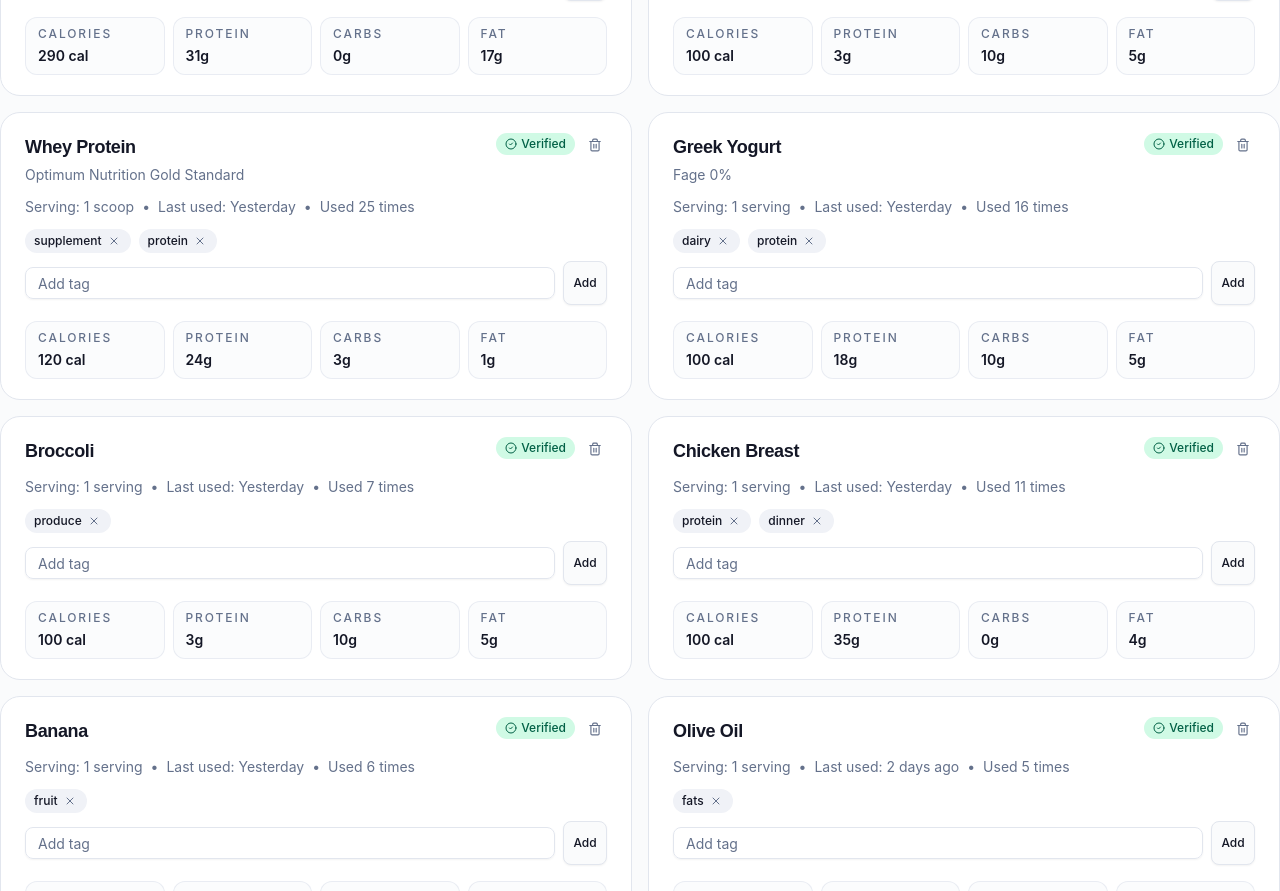
Scenario: FoodList › removes foods optimistically and keeps the total count in sync
(page scrolled)
Click the button named "Delete Broccoli" at point(595, 449), box [583, 437, 607, 461]
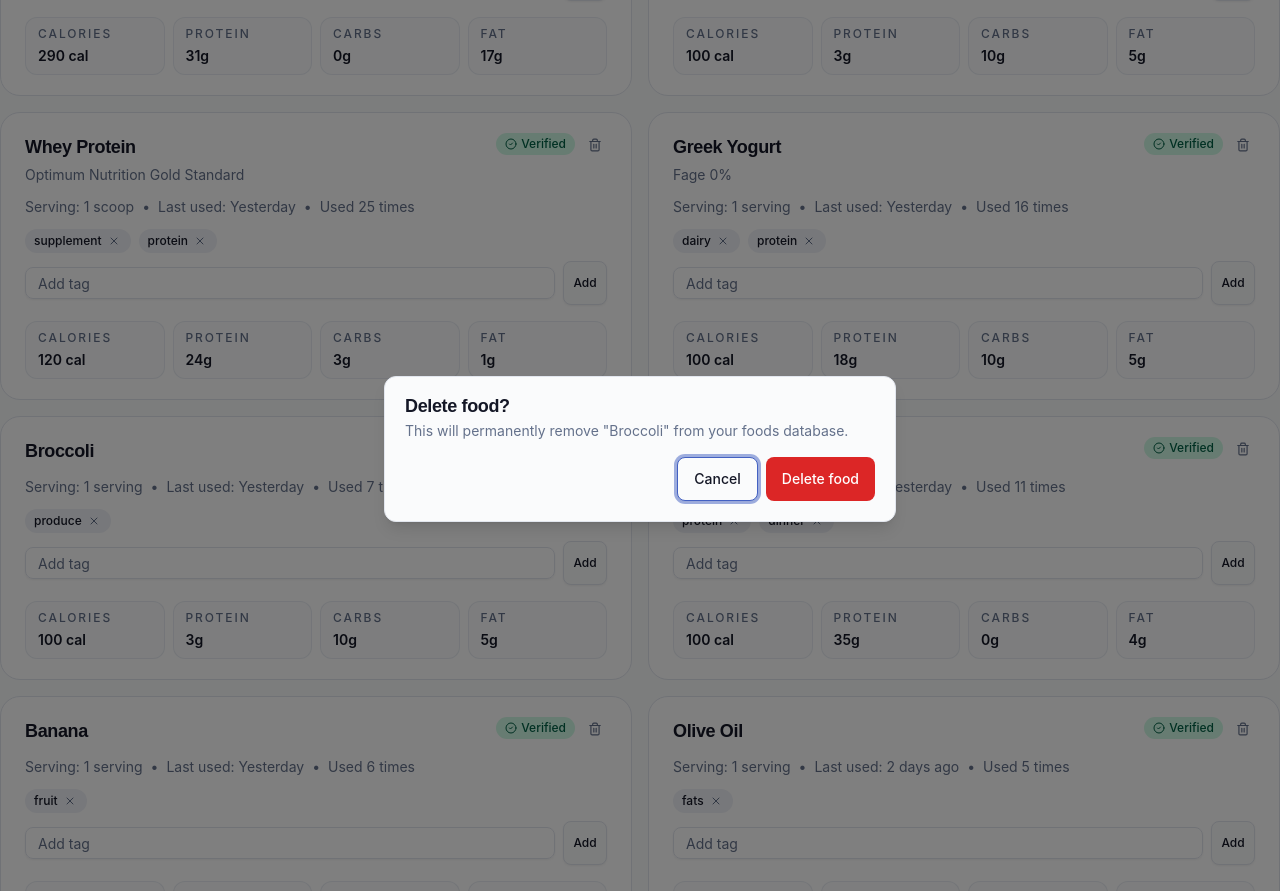
Expected: the heading "Delete food?" is shown, [405, 396, 510, 416]
Expected: the text "This will permanently remove \"Broccoli\" from your foods database." is shown, [405, 421, 875, 441]
Click the button "Delete food" at point(820, 479), box [766, 457, 875, 501]
(page scrolled)
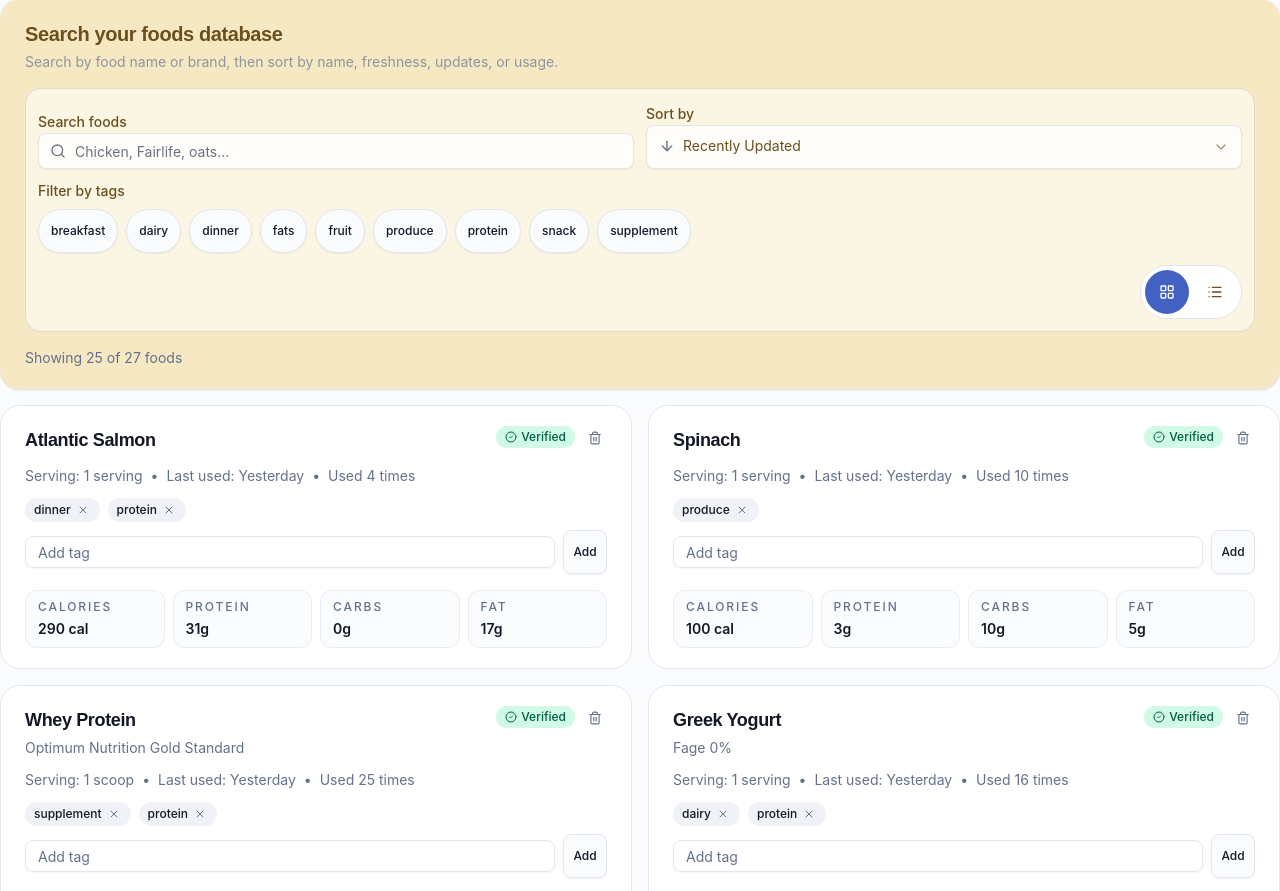
Expected: the button "Broccoli" is gone
Expected: the text "Showing 25 of 27 foods" is shown, [25, 348, 182, 368]
